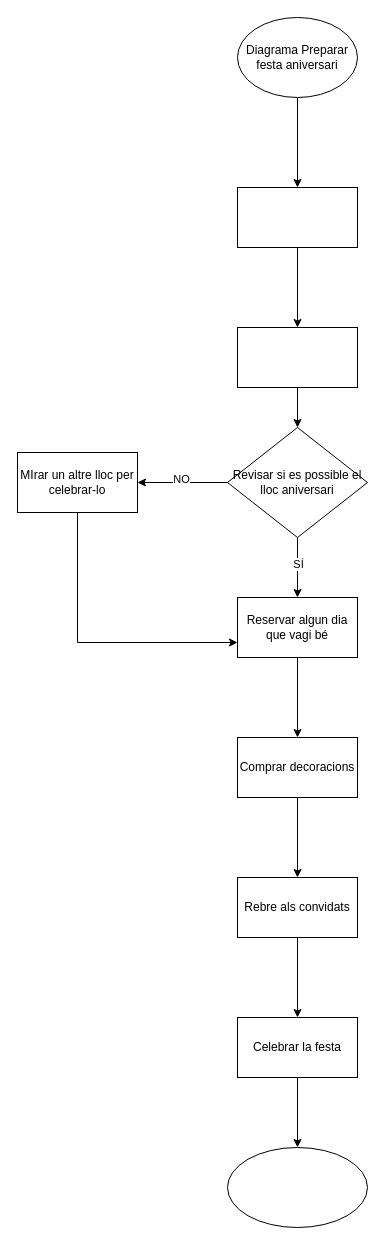
Image size: 385x1245. Some labels were removed from this diagram. The shapes that lost their labels are listed below. From the top down, each one's centre as x and y in pixels, then its label:
At pixel 297 217: "Planetjar on es vol fer i quan la festa aniversari".
At pixel 297 357: "Crear una llista de convidats".
At pixel 297 1187: "Final algoritme".
